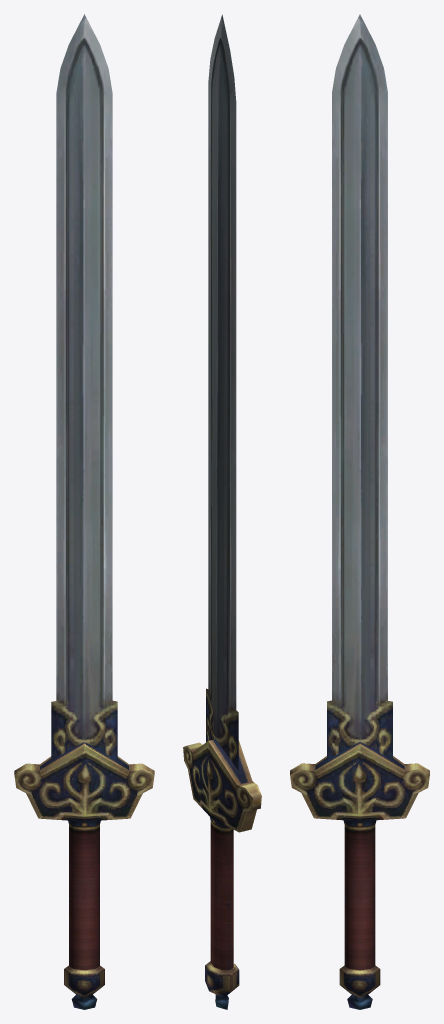
The model's file is jian.FBX.
3 renders of one model, left to right at view 1: azimuth 90°, elevation 25°; view 2: azimuth 210°, elevation 25°; view 3: azimuth 270°, elevation 25°, orthographic.
Parts seen in each view (by area): view 1: Sword_pasted__ty_sword_005a_lod0; view 2: Sword_pasted__ty_sword_005a_lod0; view 3: Sword_pasted__ty_sword_005a_lod0.
Boxes of the visible parts, bbox=[...] form: Sword_pasted__ty_sword_005a_lod0: bbox=[14, 14, 154, 1009]; Sword_pasted__ty_sword_005a_lod0: bbox=[183, 14, 261, 1009]; Sword_pasted__ty_sword_005a_lod0: bbox=[290, 14, 429, 1009].
Bounding box in the file's own units: 0.1527 × 0.6482 × 5.09.
